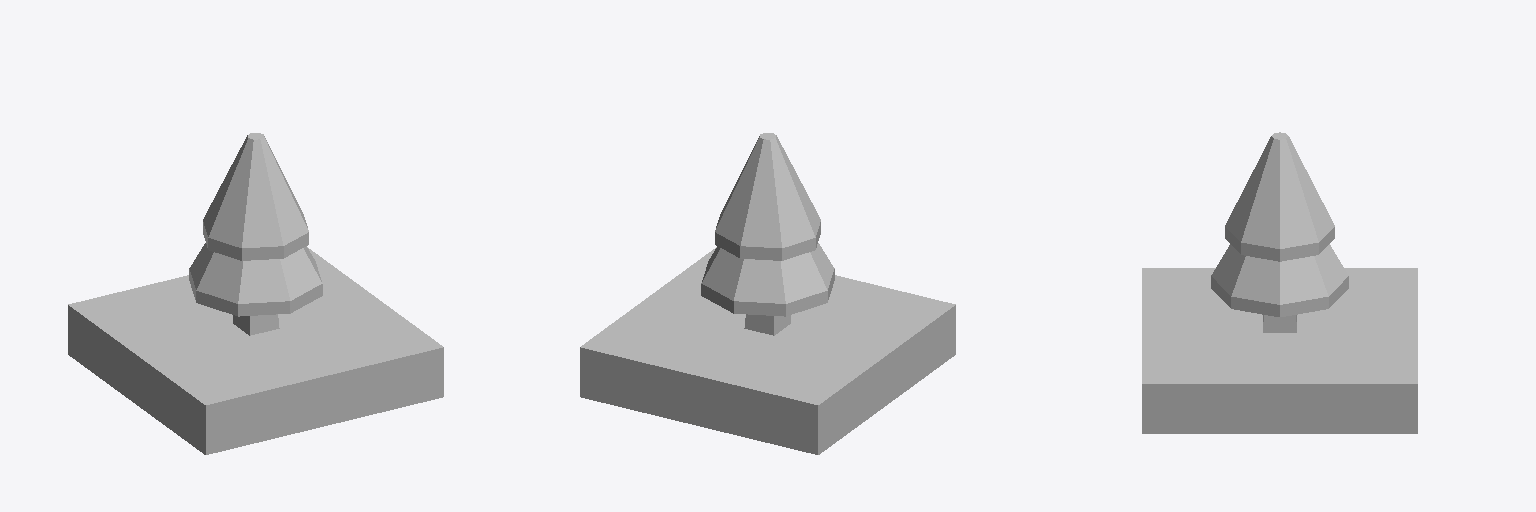
File: Tree.obj
The picture shows the model from 3 angles: view 1: azimuth 30°, elevation 25°; view 2: azimuth 150°, elevation 25°; view 3: azimuth 270°, elevation 25°; orthographic projection.
Visible parts, largest first — view 1: Tree, tree; view 2: Tree, tree; view 3: Tree, tree.
Part boxes in pixels (bbox=[...]): Tree: bbox=[68, 247, 443, 454]; tree: bbox=[189, 133, 322, 335]; Tree: bbox=[580, 247, 955, 454]; tree: bbox=[701, 133, 834, 335]; Tree: bbox=[1142, 268, 1417, 433]; tree: bbox=[1211, 132, 1348, 332].
Size of the model in its own units: 1 by 0.96 by 1.